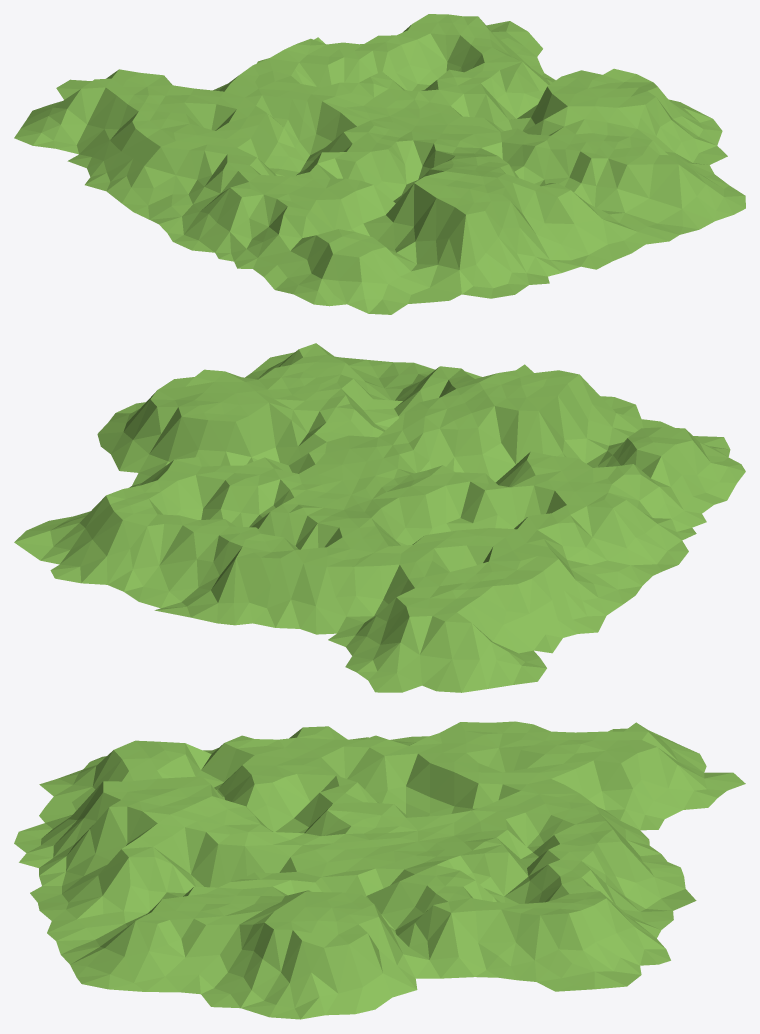
Rendered from MT_Mountain_L_b_09_LOD.fbx.
3 renders of one model, top to bottom at view 1: azimuth 30°, elevation 25°; view 2: azimuth 150°, elevation 25°; view 3: azimuth 270°, elevation 25°, orthographic. The views are drawn at different scales.
Visible parts, largest first — view 1: MT_Mountain_L_b_09_LOD0; view 2: MT_Mountain_L_b_09_LOD0; view 3: MT_Mountain_L_b_09_LOD0.
Part boxes in pixels (<box>): MT_Mountain_L_b_09_LOD0: <box>14,14,745,314</box>; MT_Mountain_L_b_09_LOD0: <box>14,343,745,692</box>; MT_Mountain_L_b_09_LOD0: <box>14,721,745,1019</box>.
Size of what is drawn, in the model's own units: 8922 by 921 by 9447.
